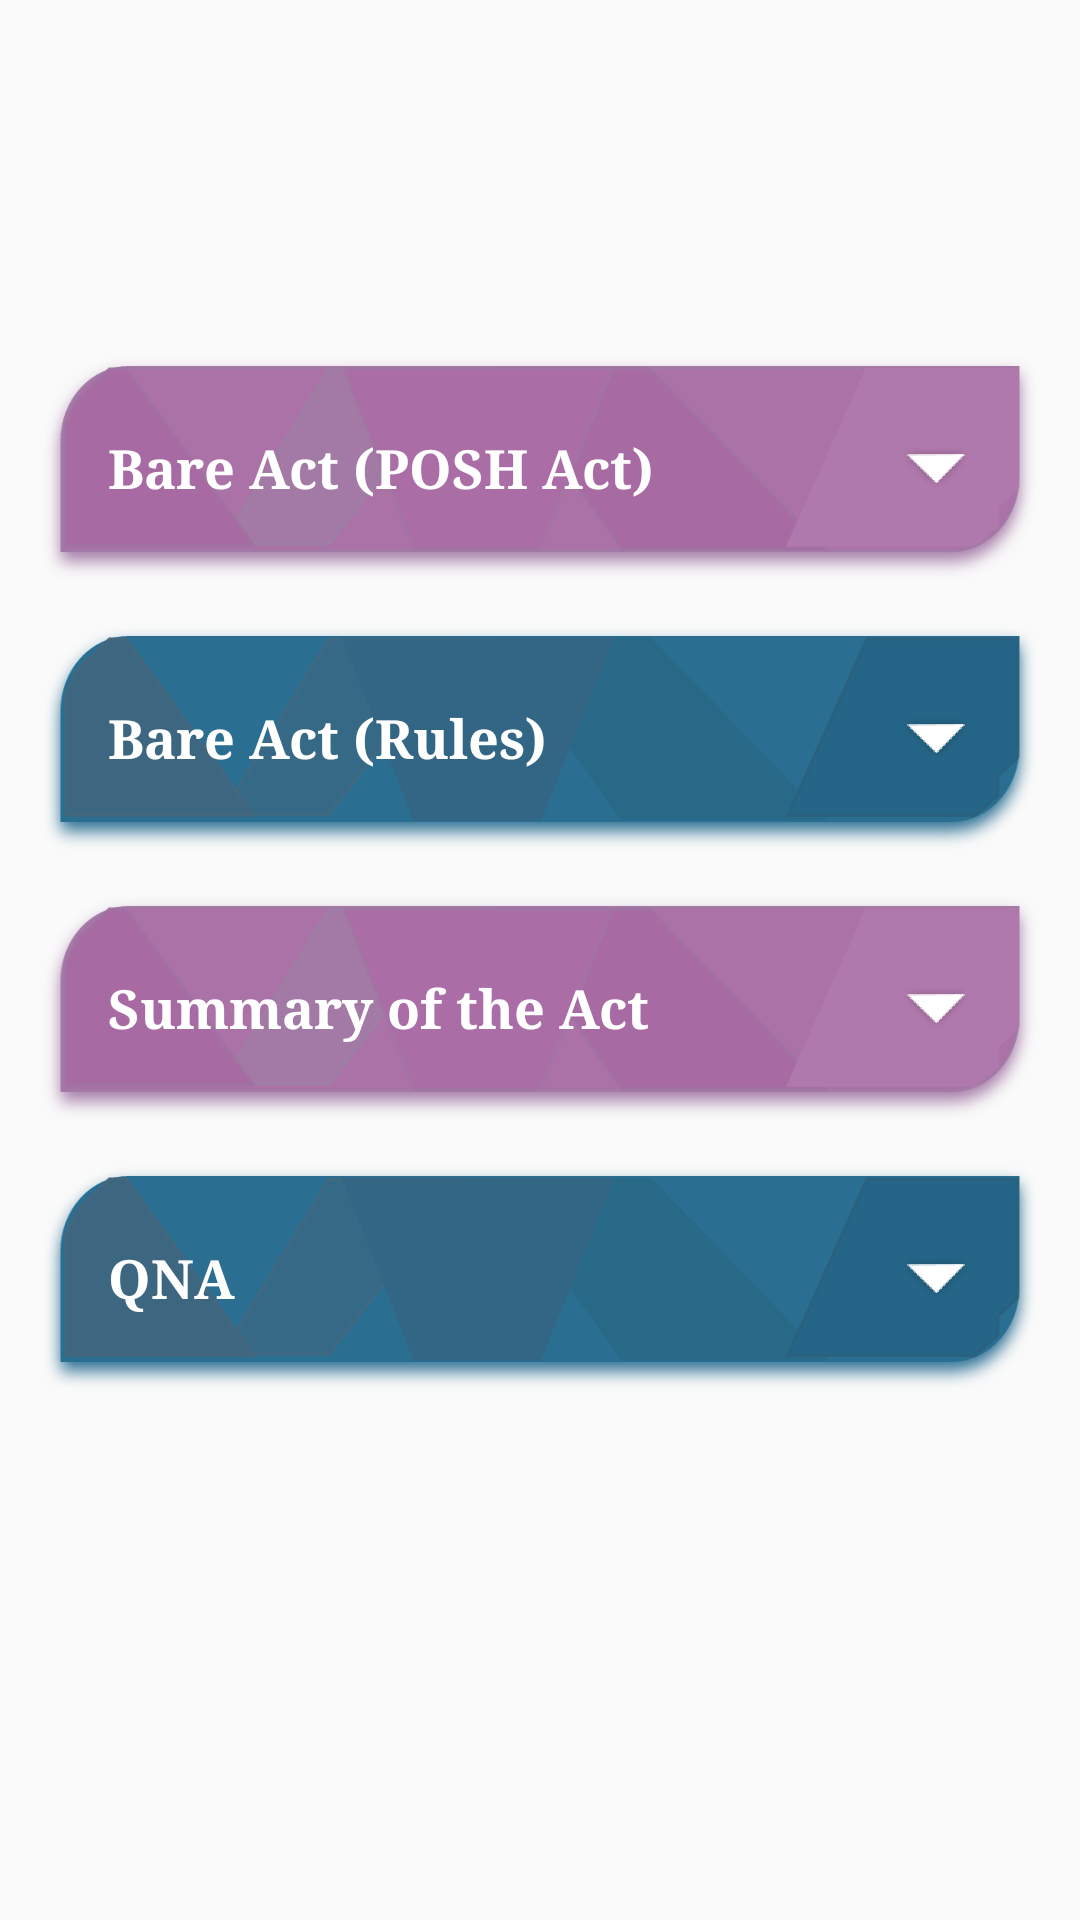

Icon click points for this 1080px×1920px phone screenshot, format point (x, y):
rkt arrow down: point (936, 468), point (936, 738), point (936, 1008), point (936, 1278)
